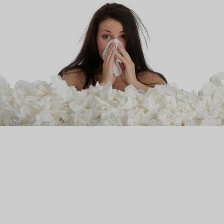tissue: (0, 68, 224, 125), (98, 34, 131, 79)
